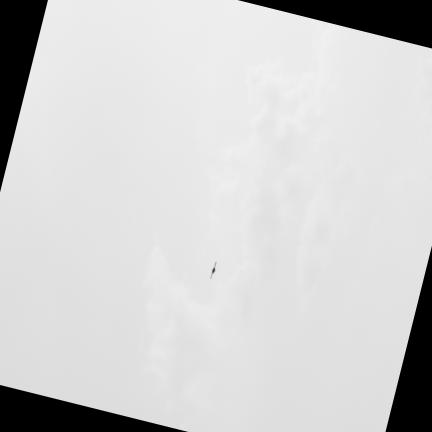Shahed: (209, 259, 217, 278)
